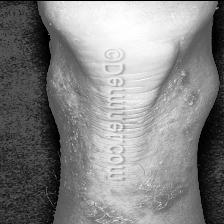Toxin: (76, 194, 134, 224), (151, 181, 187, 210)
